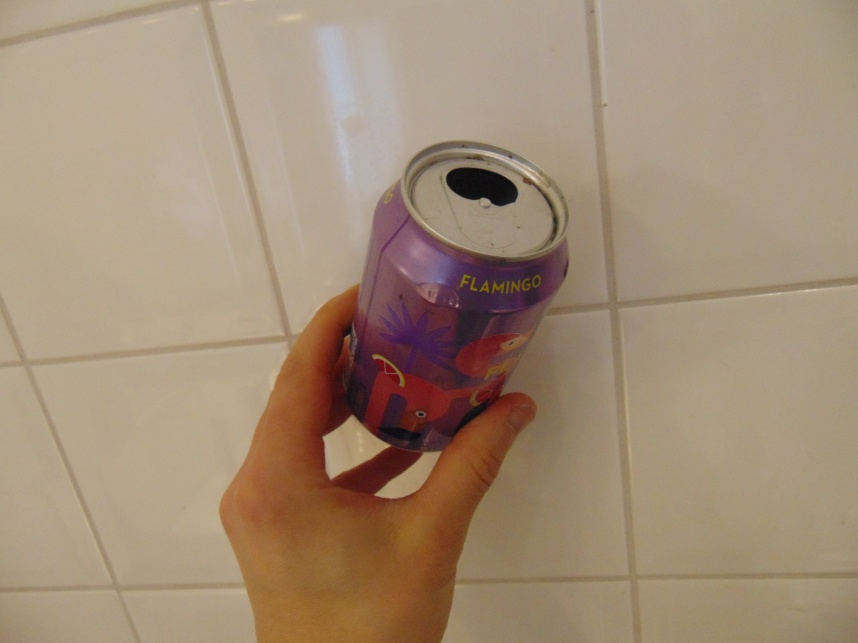metal_can: (336, 138, 570, 453)
